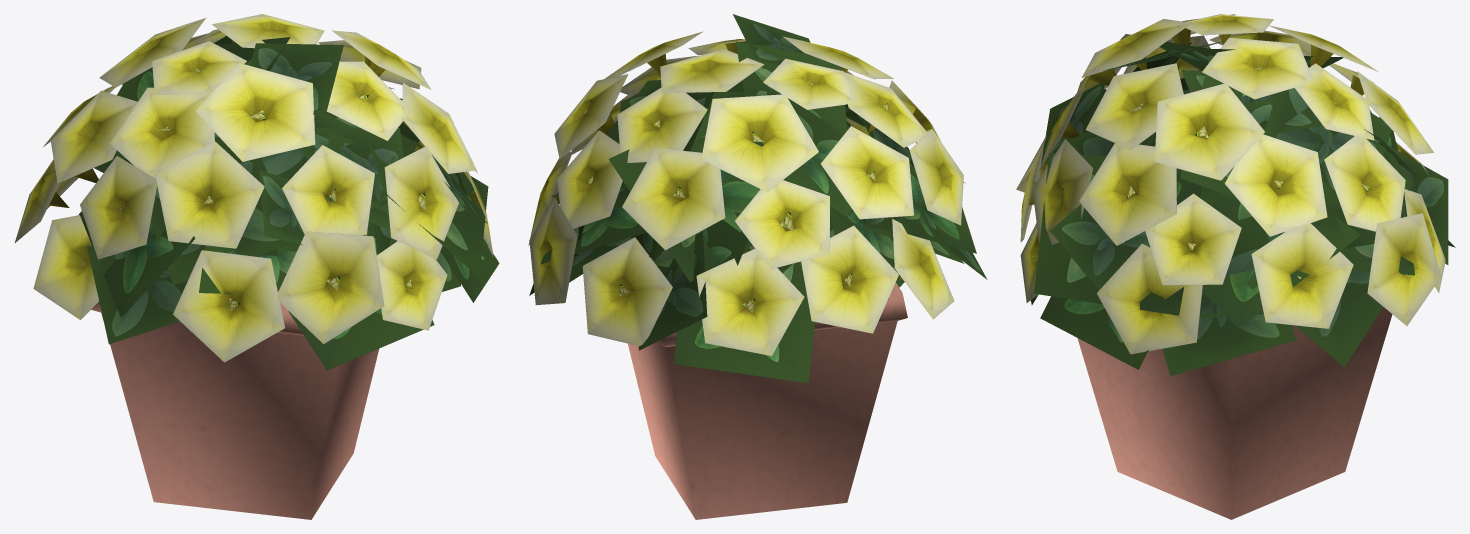
Rendered from Furniture_foliageplant_09_LOD1.fbx.
3 views of the same model, side by side, from view 1: azimuth 30°, elevation 25°; view 2: azimuth 150°, elevation 25°; view 3: azimuth 270°, elevation 25° (orthographic). The views are drawn at different scales.
Visible parts, largest first — view 1: F_foliageplant_09_LOD1_01, F_foliageplant_09_LOD1_02; view 2: F_foliageplant_09_LOD1_01, F_foliageplant_09_LOD1_02; view 3: F_foliageplant_09_LOD1_01, F_foliageplant_09_LOD1_02.
Part boxes in pixels (left/top/right/bottom): F_foliageplant_09_LOD1_01: left=15, top=14, right=499, bottom=370; F_foliageplant_09_LOD1_02: left=91, top=301, right=378, bottom=519; F_foliageplant_09_LOD1_01: left=528, top=14, right=987, bottom=383; F_foliageplant_09_LOD1_02: left=628, top=283, right=907, bottom=519; F_foliageplant_09_LOD1_01: left=1016, top=14, right=1455, bottom=376; F_foliageplant_09_LOD1_02: left=1077, top=307, right=1392, bottom=519.
Bounding box in the file's own units: 34.36 × 34.98 × 31.76.
